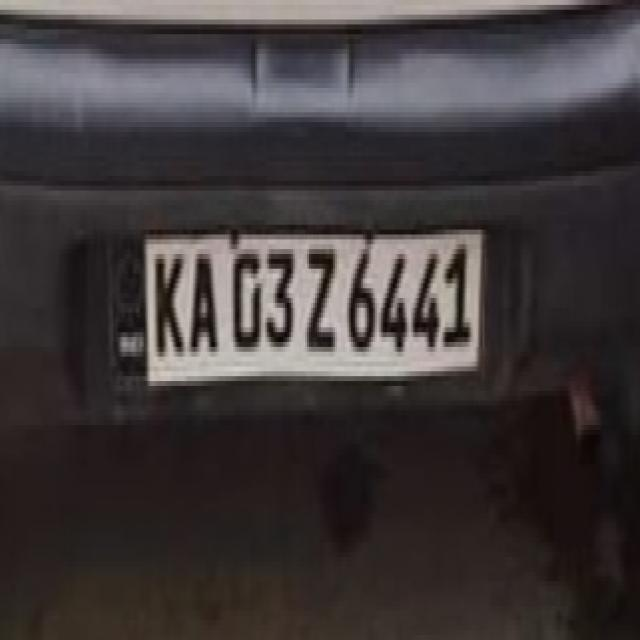0: (230, 228, 264, 359)
1: (442, 230, 473, 352)
3: (265, 242, 295, 354)
4: (410, 234, 442, 360), (380, 234, 410, 354)
6: (346, 232, 376, 361)
A: (185, 244, 218, 366)
K: (152, 235, 187, 370)
Z: (301, 245, 341, 362)
